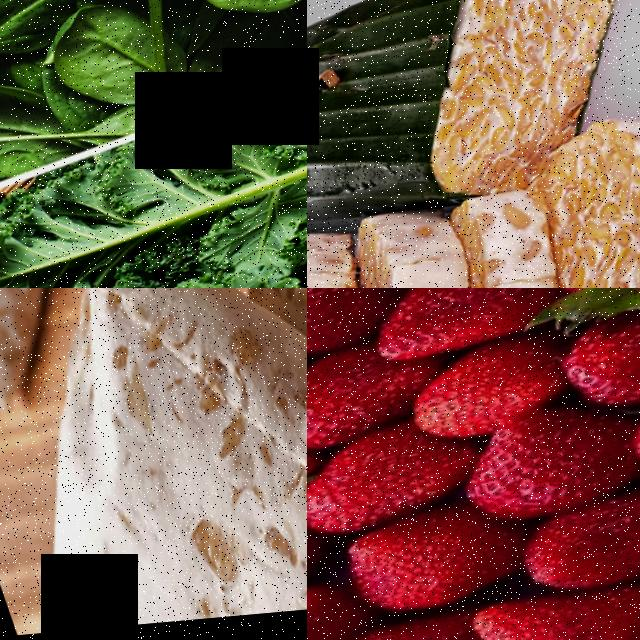spinach: (34, 0, 164, 132), (145, 0, 307, 50), (0, 0, 88, 59)
strawberry: (459, 398, 631, 539), (334, 498, 498, 630), (403, 337, 571, 453), (307, 428, 460, 552), (357, 288, 559, 379), (503, 486, 640, 608), (307, 340, 402, 466), (463, 584, 640, 640), (323, 607, 473, 640)
tempeh: (0, 288, 307, 639), (367, 0, 640, 206), (165, 288, 307, 464), (506, 103, 640, 288), (329, 198, 483, 288)
